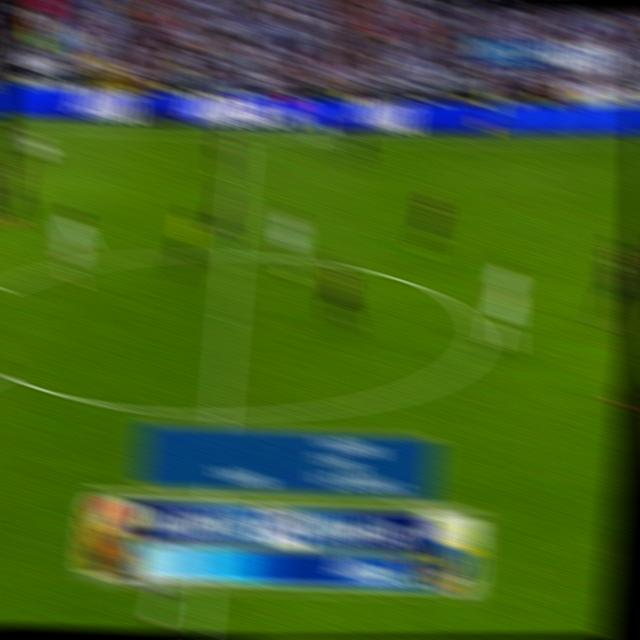halfcircle_bottom: (219, 234, 247, 270)
halfcircle_top: (219, 235, 247, 270)
midline_bottom_intersection: (205, 394, 235, 430)
midline_top_intersection: (232, 129, 254, 149)
